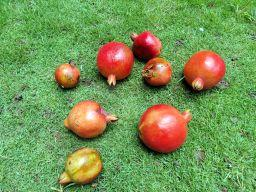pomegranate: (138, 102, 192, 153), (63, 100, 119, 141), (184, 50, 226, 93), (96, 42, 134, 88), (59, 146, 102, 186), (130, 30, 162, 62), (141, 58, 172, 88), (54, 59, 80, 90)
